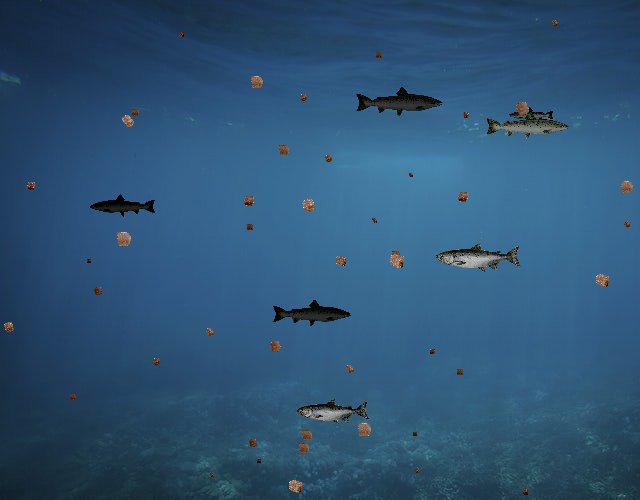Fish: (355, 85, 445, 118), (484, 110, 570, 141), (436, 242, 522, 273), (272, 298, 353, 328), (297, 399, 370, 425), (90, 194, 158, 218), (508, 107, 555, 124)
Pellet: (108, 223, 138, 254), (243, 69, 270, 96), (238, 190, 260, 212), (0, 316, 20, 338), (340, 360, 359, 379), (386, 246, 404, 264), (518, 485, 532, 499), (372, 48, 386, 62), (426, 345, 439, 358), (175, 28, 188, 41), (206, 470, 216, 480)
